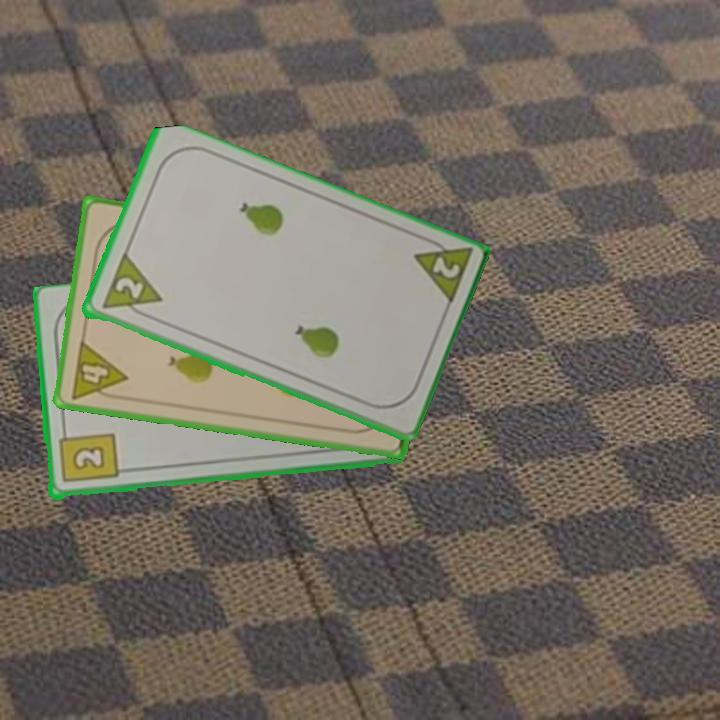2b: (55, 425, 120, 486)
2p: (409, 232, 475, 310), (97, 252, 164, 324)
4p: (67, 337, 130, 404)
